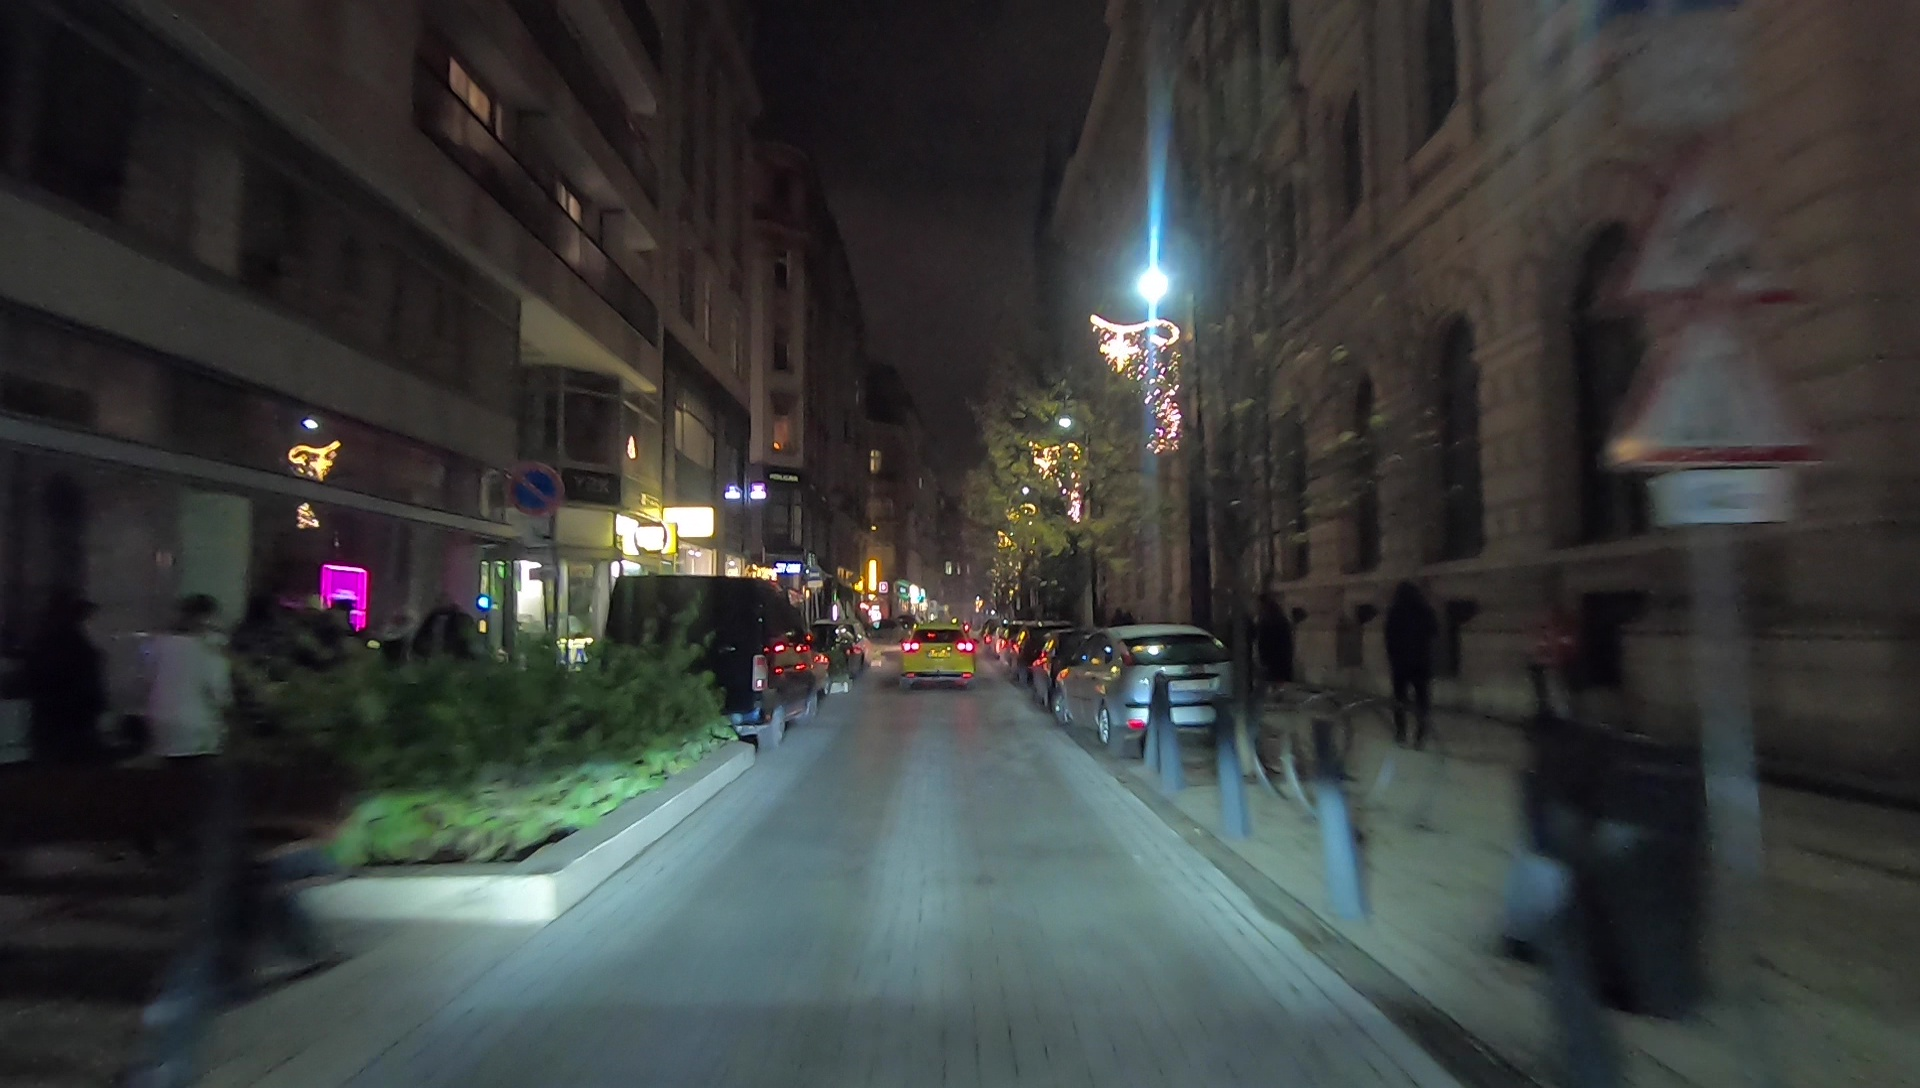person: (26, 602, 117, 830), (145, 608, 232, 819), (1384, 578, 1441, 749), (1252, 595, 1294, 704)
